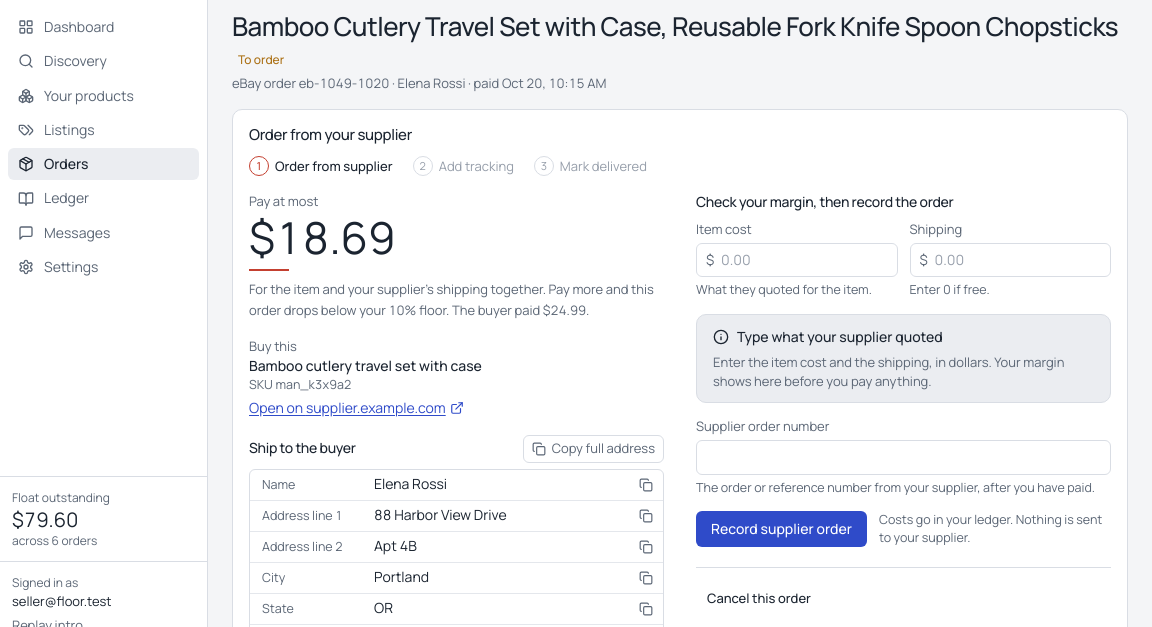
Order from your supplier › records below the floor only after an explicit confirmation, which is sent as confirmBelowFloor
The width and height of the screenshot is (1152, 627).
Expected: the heading "Order from your supplier" is shown, [249, 124, 412, 146]
Type "20.00" into the field labelled "Item cost" at coordinates (797, 260), box [696, 243, 898, 277]
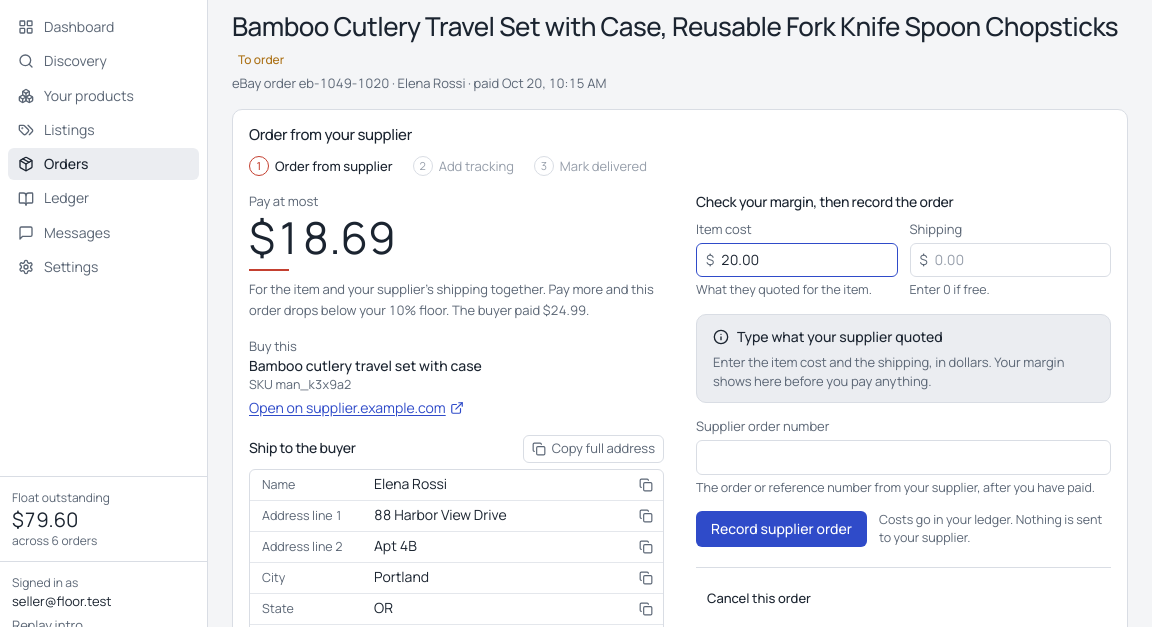
Type "1.00" into the field labelled "Shipping" at coordinates (1010, 260), box [910, 243, 1111, 277]
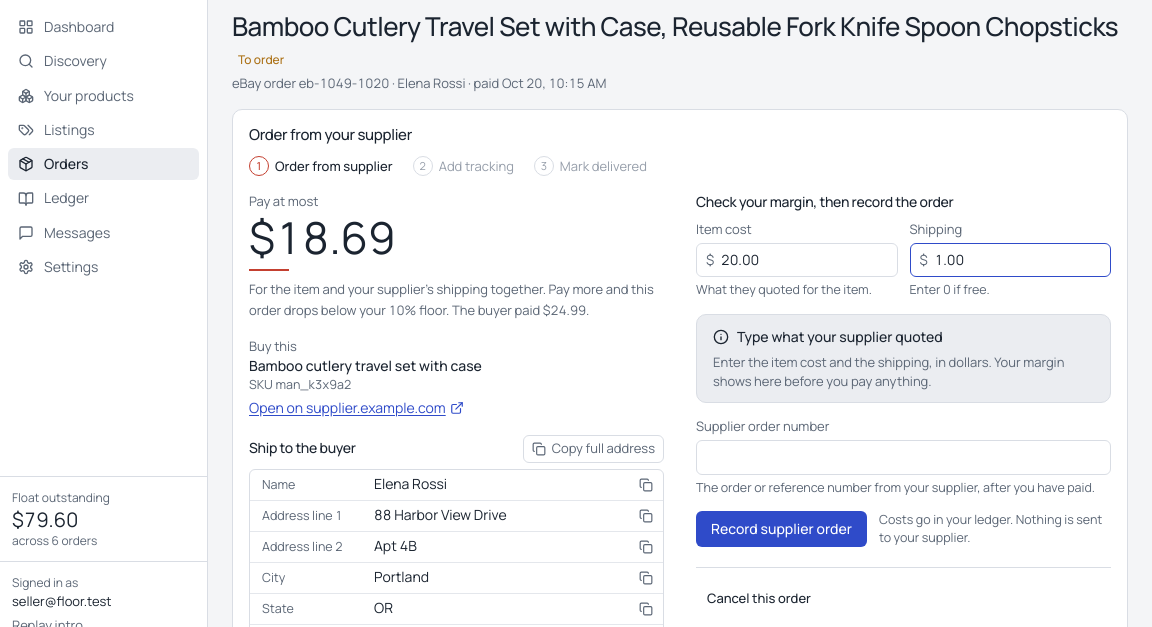
Type "ALI-5521" into the field labelled "Supplier order number" at coordinates (904, 457), box [696, 440, 1111, 475]
(page scrolled)
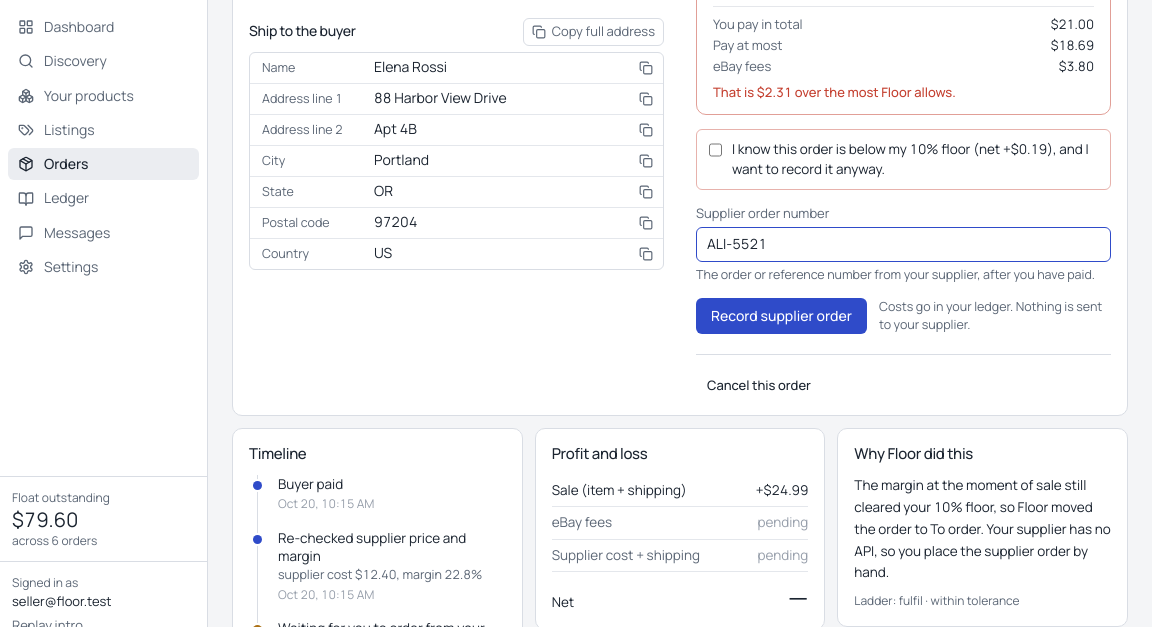
Now the checkbox labelled "below my 10% floor" is not checked, box [709, 142, 722, 158]
Click the button "Record supplier order" at coordinates (781, 316), box [696, 298, 867, 334]
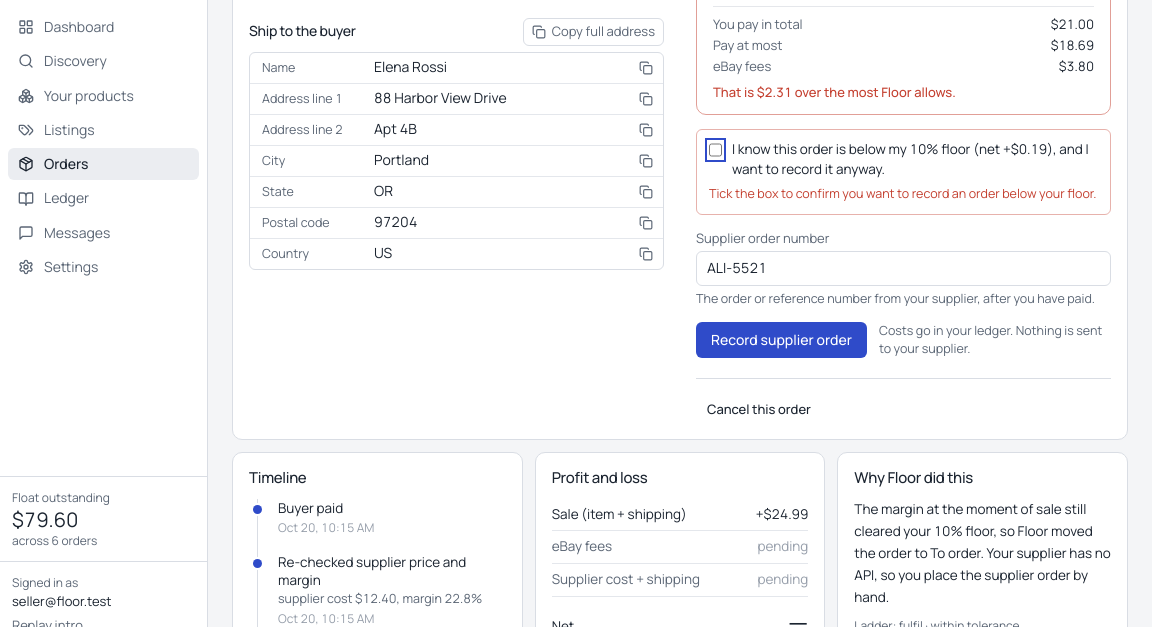
Now the text "Tick the box to confirm you want to record an order below your floor." is shown, box [709, 185, 1098, 204]
Click the checkbox labelled "below my 10% floor" at coordinates (716, 150), box [709, 142, 722, 158]
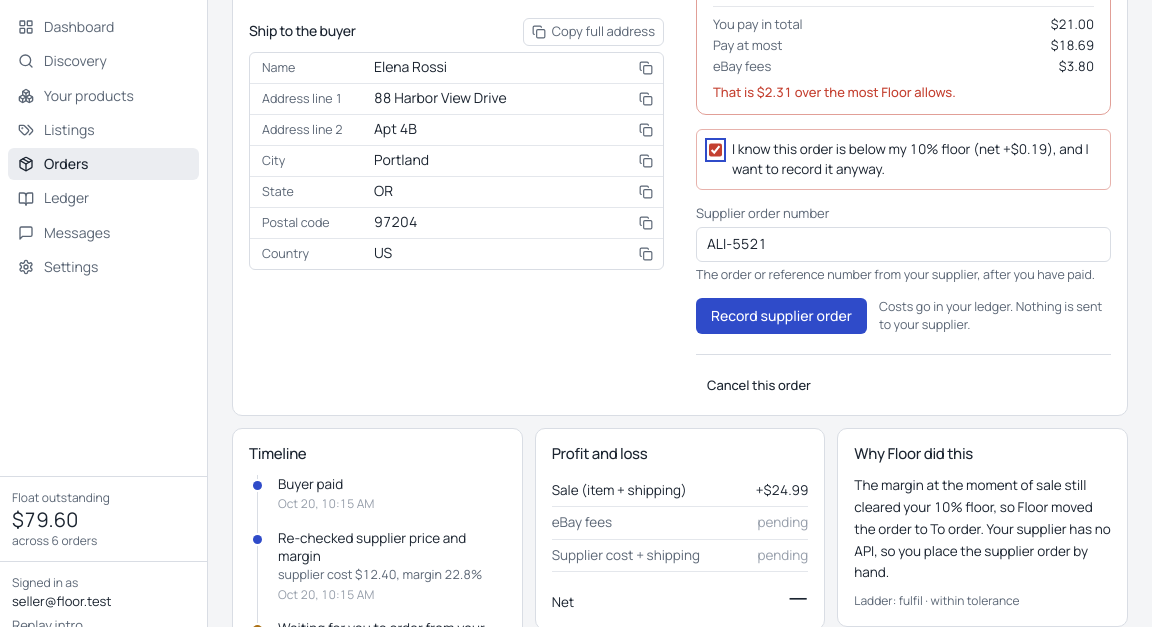
Click the button "Record supplier order" at coordinates (781, 316), box [696, 298, 867, 334]
(page scrolled)
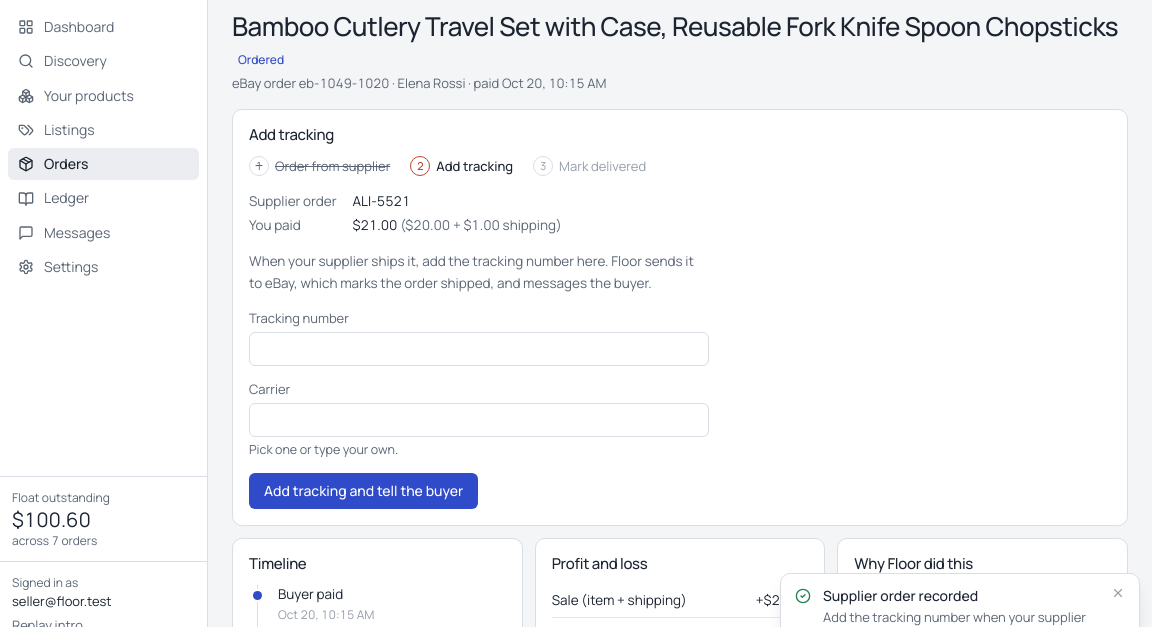
Now the heading "Add tracking" is shown, box [249, 124, 334, 146]
